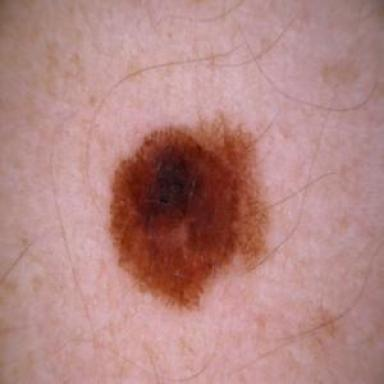Melanoma: (110, 119, 265, 307)
